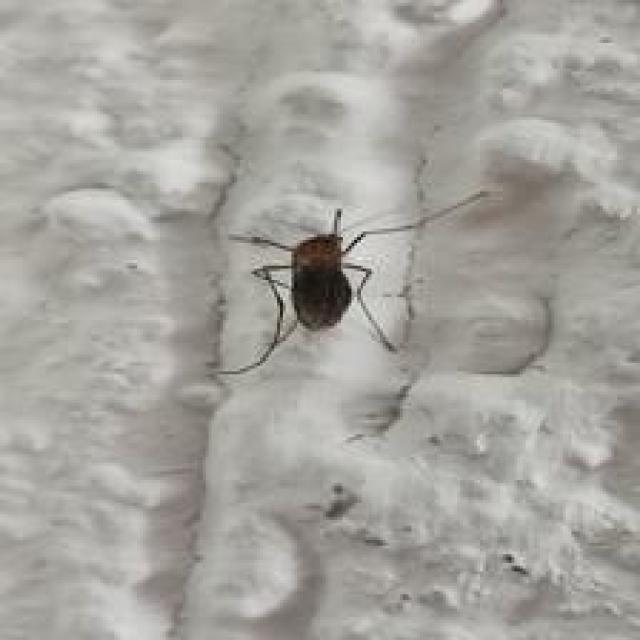Culex: (207, 184, 487, 379)
